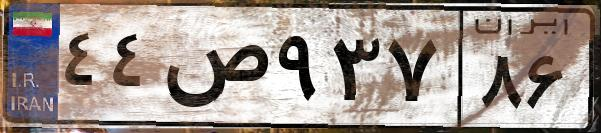3: (330, 28, 385, 110)
4: (57, 26, 110, 100), (110, 28, 158, 98)
6: (525, 38, 570, 115)
7: (385, 28, 445, 110)
8: (475, 38, 525, 113)
9: (270, 28, 330, 110)
ص: (158, 20, 270, 120)
